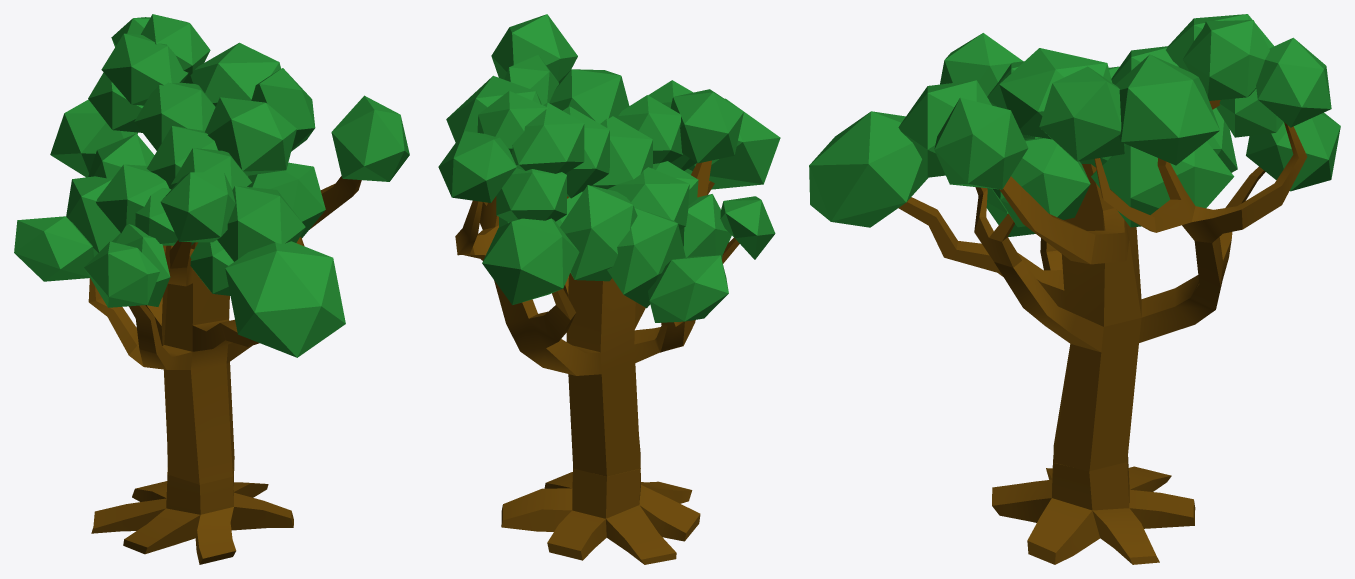
The model's file is lowpolytree1.fbx.
3 renders of one model, left to right at view 1: azimuth 30°, elevation 25°; view 2: azimuth 150°, elevation 25°; view 3: azimuth 270°, elevation 25°, orthographic. The views are drawn at different scales.
Visible parts, largest first — view 1: pasted__pasted__pPlatonic1 (×20), pCylinder1, pasted__pCylinder1, pasted__pPlatonic1 (×2), pPlatonic1; view 2: pasted__pasted__pPlatonic1 (×18), pCylinder1, pasted__pCylinder1, pasted__pPlatonic1 (×2), pasted__pasted__pasted__pPlatonic1, pPlatonic1; view 3: pasted__pasted__pPlatonic1 (×13), pCylinder1, pasted__pCylinder1, pasted__pPlatonic1 (×2), pPlatonic1, pasted__pasted__pasted__pPlatonic1.
Part boxes in pixels (x1=…): pasted__pasted__pPlatonic1 (×20): x1=14, y1=33, x2=409, y2=357; pCylinder1: x1=88, y1=176, x2=361, y2=484; pasted__pCylinder1: x1=91, y1=463, x2=293, y2=564; pasted__pPlatonic1 (×2): x1=88, y1=72, x2=296, y2=175; pPlatonic1: x1=141, y1=14, x2=210, y2=83; pasted__pasted__pPlatonic1 (×18): x1=446, y1=14, x2=780, y2=322; pCylinder1: x1=455, y1=160, x2=739, y2=476; pasted__pCylinder1: x1=501, y1=468, x2=700, y2=564; pasted__pPlatonic1 (×2): x1=496, y1=69, x2=629, y2=222; pasted__pasted__pasted__pPlatonic1: x1=438, y1=131, x2=516, y2=202; pPlatonic1: x1=477, y1=91, x2=548, y2=154; pasted__pasted__pPlatonic1 (×13): x1=809, y1=14, x2=1340, y2=237; pCylinder1: x1=898, y1=100, x2=1307, y2=471; pasted__pCylinder1: x1=992, y1=455, x2=1195, y2=564; pasted__pPlatonic1 (×2): x1=999, y1=48, x2=1283, y2=139; pPlatonic1: x1=1182, y1=20, x2=1269, y2=100; pasted__pasted__pasted__pPlatonic1: x1=1256, y1=37, x2=1331, y2=127.
Bounding box in the file's own units: 5.91 × 8.35 × 7.79.
